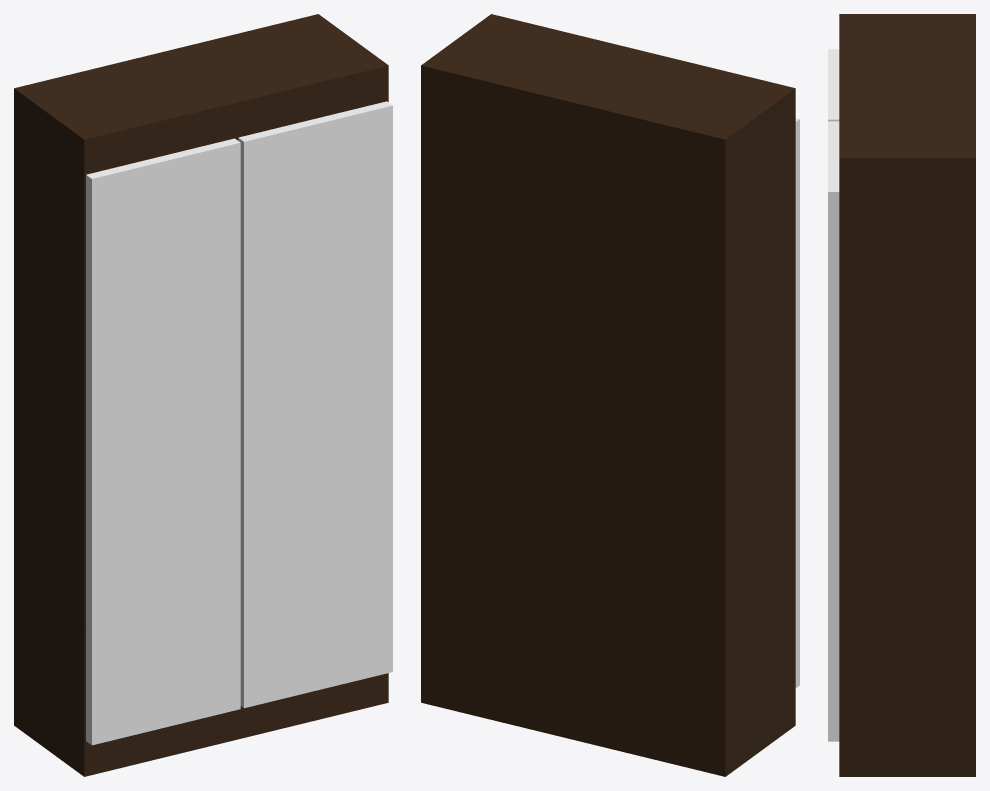
Rendered from locker-lite.glb.
3 renders of one model, left to right at view 1: azimuth 30°, elevation 25°; view 2: azimuth 150°, elevation 25°; view 3: azimuth 270°, elevation 25°, orthographic. The views are drawn at different scales.
Parts seen in each view (by area): view 1: material-1-door, material-0-body; view 2: material-0-body, material-1-door; view 3: material-0-body, material-1-door.
Part boxes in pixels (bbox=[...]): material-1-door: bbox=[86, 101, 392, 745]; material-0-body: bbox=[14, 14, 388, 776]; material-0-body: bbox=[421, 14, 795, 776]; material-1-door: bbox=[795, 118, 799, 687]; material-0-body: bbox=[839, 14, 975, 776]; material-1-door: bbox=[828, 49, 839, 741].
Size of the model in its own units: 0.9 by 1.8 by 0.39.
